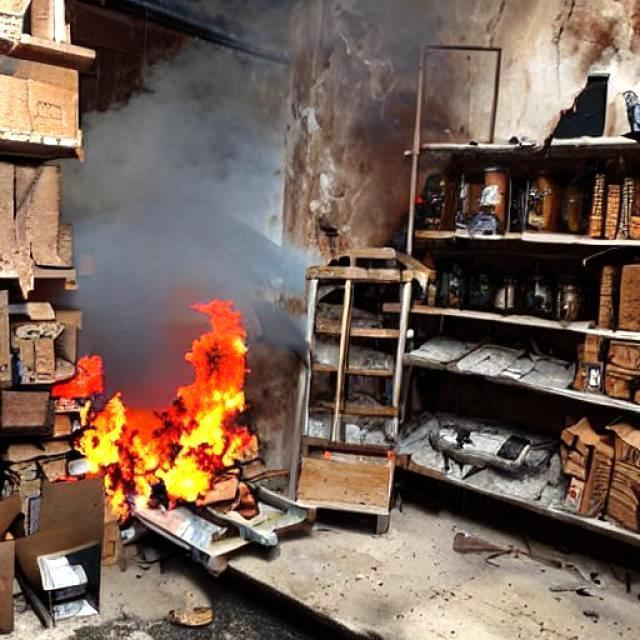Fire: (78, 312, 282, 527)
Smoke: (69, 12, 306, 300)
